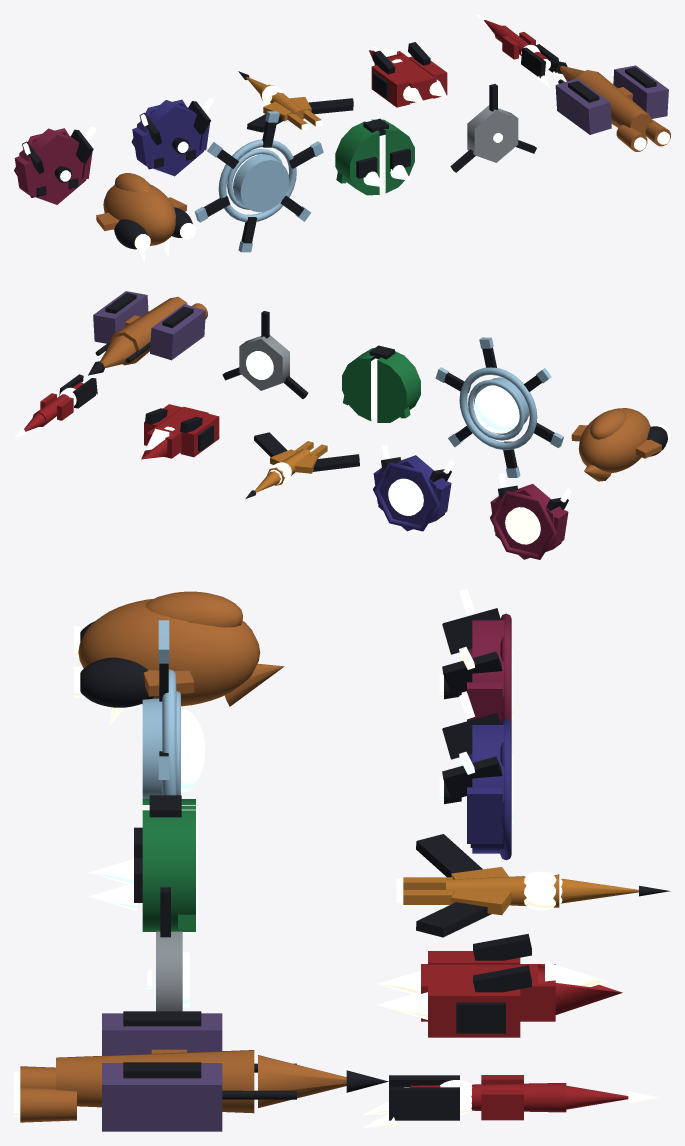
File: enemy-squadron.glb
3 views of the same model, one above another, from view 1: azimuth 30°, elevation 25°; view 2: azimuth 150°, elevation 25°; view 3: azimuth 270°, elevation 25° (orthographic). The views are drawn at different scales.
Visible parts, largest first — view 1: enemy_drifter_hex_shell, enemy_sine_hex_shell, enemy_bomber_hull, enemy_orbiter_hub_collar, enemy_orbiter, enemy_swarm_hex_shell, enemy_splitter_half_shell_port, enemy_dreadnought_side_slab_port, enemy_dreadnought_spine, enemy_dreadnought_side_slab_stbd, enemy_orbiter_outer_ring, enemy_splitter_half_shell_stbd (+16 smaller); view 2: enemy_bomber_hull, enemy_splitter_half_shell_port, enemy_orbiter, enemy_dreadnought_side_slab_port, enemy_orbiter_outer_ring, enemy_drifter_hex_shell, enemy_sine_hex_shell, enemy_swarm_hex_shell, enemy_splitter_half_shell_stbd, enemy_orbiter_core_dome, enemy_dreadnought_spine, enemy_dreadnought_side_slab_stbd (+16 smaller); view 3: enemy_bomber_hull, enemy_dreadnought_side_slab_stbd, enemy_splitter_half_shell_stbd, enemy_dreadnought_spine, enemy_dreadnought_side_slab_port, enemy_charger_side_block_stbd, enemy_charger_body, enemy_bomber_engine_pod_stbd, enemy_bomber_hull_crest, enemy_dreadnought_prow, enemy_sniper_rear_fin_stbd, enemy_swarm_hex_shell (+35 smaller).
Boxes of the visible parts, bbox=[...] form: enemy_drifter_hex_shell: bbox=[19, 128, 86, 204]; enemy_sine_hex_shell: bbox=[137, 100, 203, 176]; enemy_bomber_hull: bbox=[103, 184, 175, 245]; enemy_orbiter_hub_collar: bbox=[233, 154, 289, 212]; enemy_orbiter: bbox=[194, 111, 323, 252]; enemy_swarm_hex_shell: bbox=[467, 105, 518, 162]; enemy_splitter_half_shell_port: bbox=[335, 121, 379, 195]; enemy_dreadnought_side_slab_port: bbox=[555, 78, 611, 134]; enemy_dreadnought_spine: bbox=[575, 70, 652, 135]; enemy_dreadnought_side_slab_stbd: bbox=[613, 65, 668, 118]; enemy_orbiter_outer_ring: bbox=[218, 139, 296, 221]; enemy_splitter_half_shell_stbd: bbox=[371, 119, 414, 193]; enemy_bomber_hull: bbox=[578, 408, 650, 473]; enemy_splitter_half_shell_port: bbox=[377, 351, 420, 422]; enemy_orbiter: bbox=[435, 337, 563, 477]; enemy_dreadnought_side_slab_port: bbox=[150, 304, 205, 360]; enemy_orbiter_outer_ring: bbox=[459, 367, 537, 450]; enemy_drifter_hex_shell: bbox=[495, 483, 561, 559]; enemy_sine_hex_shell: bbox=[378, 455, 444, 531]; enemy_swarm_hex_shell: bbox=[239, 335, 289, 390]; enemy_splitter_half_shell_stbd: bbox=[342, 348, 374, 420]; enemy_orbiter_core_dome: bbox=[474, 389, 515, 432]; enemy_dreadnought_spine: bbox=[109, 296, 187, 365]; enemy_dreadnought_side_slab_stbd: bbox=[93, 291, 148, 343]; enemy_bomber_hull: bbox=[78, 599, 260, 706]; enemy_dreadnought_side_slab_stbd: bbox=[102, 1063, 222, 1131]; enemy_splitter_half_shell_stbd: bbox=[142, 810, 195, 931]; enemy_dreadnought_spine: bbox=[56, 1050, 254, 1113]; enemy_dreadnought_side_slab_port: bbox=[102, 1013, 222, 1055]; enemy_charger_side_block_stbd: bbox=[428, 984, 520, 1037]; enemy_charger_body: bbox=[421, 964, 555, 1021]; enemy_bomber_engine_pod_stbd: bbox=[80, 657, 153, 707]; enemy_bomber_hull_crest: bbox=[145, 591, 242, 627]; enemy_dreadnought_prow: bbox=[258, 1055, 346, 1107]; enemy_sniper_rear_fin_stbd: bbox=[389, 1087, 459, 1120]; enemy_swarm_hex_shell: bbox=[156, 931, 182, 1011].
Bounding box in the file's own units: 32.87 × 7.64 × 18.53.
